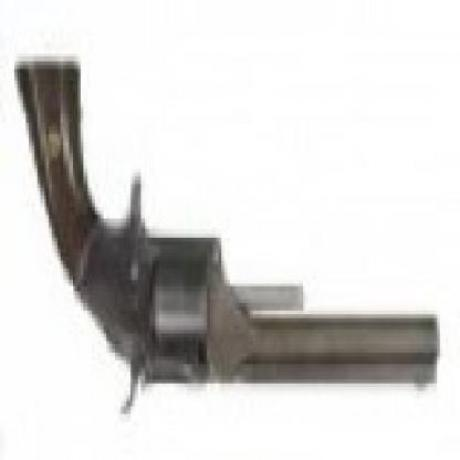weapon: (11, 50, 439, 424)
